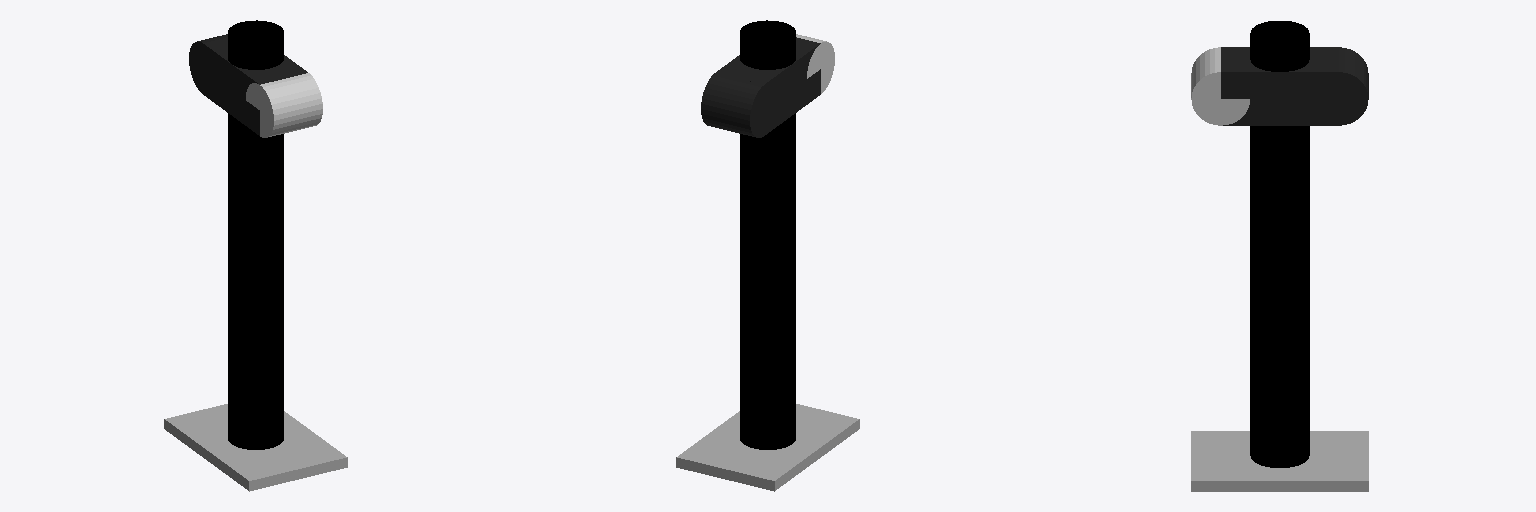
URDF robot description (LISM_Arm):
<?xml version="1.0" ?>
<robot name="LISM_Arm">

    <!-- Basic colors -->
    <material name="black">
        <color rgba="0.0 0.0 0.0 1.0"/>
    </material>
    <material name="greyblack">
        <color rgba="0.1765 0.1765 0.1765 1"/>
    </material>
    <material name="blue">
        <color rgba="0.0 0.0 0.8 1.0"/>
    </material>
    <material name="green">
        <color rgba="0.0 0.8 0.0 1.0"/>
    </material>
    <material name="grey">
        <color rgba="0.3 0.3 0.3 1"/>
    </material>
    <material name="silver">
        <color rgba="0.8 0.8 0.8 1"/>
    </material>
    <material name="red">
        <color rgba="0.8 0.0 0.0 1.0"/>
    </material>
    <material name="white">
        <color rgba="1.0 1.0 1.0 1.0"/>
    </material>

    <material name="anymal_material">
        <color rgba="0.7 0.7 0.7 1.0"/>
    </material>


    <!-- Material for the visual primitives -->
    <material name="anymal_material">
        <color rgba="0.7 0.7 0.7 1.0"/>
    </material>

<!---=============================the base of fixing arm======================-->
    <!--base of fixing arm-->
    <link name="world"/>

    <joint name="worldTolink1" type="fixed">
        <parent link="world"/>
        <child link="base_plate"/>
        <origin xyz="0 0 0"/>
    </joint>

    <link name="base_plate">
        <visual>
            <origin rpy="0.0 0.0 0.0" xyz="0 0 0"/>
            <geometry>
                <box size="0.2 0.3 0.02"/>
            </geometry>
            <material name="anymal_material"/>
        </visual>
        
    </link>

    <joint name="base_fix" type="fixed">
        <axis xyz="1 0 0"/>
        <origin rpy="0 0 0" xyz="0 0 0"/>
        <parent link="base_plate"/>
        <child link="fix_pillar"/>
    </joint>

    <link name="fix_pillar">
        <visual>
            <origin rpy="0.0 0.0 0.0" xyz="0 0 0.4"/>
            <geometry>
                <cylinder length="0.8" radius="0.05"/>
            </geometry>
            <material name="black"/>
        </visual>
    </link>

    <joint name="fix_plate" type="fixed">
        <axis xyz="1 0 0"/>
        <origin rpy="0 0 0" xyz="0 0 0"/>
        <parent link="fix_pillar"/>
        <child link="arm_plate"/>
    </joint>

    <link name="arm_plate">
        <visual>
            <origin rpy="0.0 0.0 0.0" xyz="0 0 0.7"/>
            <geometry>
                <box size="0.1 0.2 0.1"/>
            </geometry>
            <material name="greyblack"/>
        </visual>
    </link>

    <joint name="plate_cir_r" type="fixed">
        <axis xyz="1 0 0"/>
        <origin rpy="0 0 0" xyz="0 0 0"/>
        <parent link="arm_plate"/>
        <child link="cir_plate_r"/>
    </joint>

    <link name="cir_plate_r">
        <visual>
            <origin rpy="0.0 1.57 0.0" xyz="0 0.1 0.7"/>
            <geometry>
                <cylinder length="0.1" radius="0.05"/>
            </geometry>
            <material name="greyblack"/>
        </visual>
    </link>

    <joint name="plate_cir_l" type="fixed">
        <axis xyz="1 0 0"/>
        <origin rpy="0 0 0" xyz="0 0 0"/>
        <parent link="arm_plate"/>
        <child link="cir_plate_l"/>
    </joint>

    <link name="cir_plate_l">
        <visual>
            <origin rpy="0.0 1.57 0.0" xyz="0 -0.1 0.7"/>
            <geometry>
                <cylinder length="0.1" radius="0.05"/>
            </geometry>
            <material name="silver"/>
        </visual>
    </link>

    <joint name="plate_arm_r" type="fixed">
        <axis xyz="1 0 0"/>
        <origin rpy="0 0 0" xyz="0.05 0.1 0.7"/>
        <parent link="cir_plate_r"/>
        <child link="abad_r"/>
        <!-- <limit effort="18" lower="-6.28" upper="6.28" velocity="40"/> -->
        <dynamics damping="0.01" rotor_inertia="0.003708"/>
    </joint>

    <!-- <joint name="plate_arm_l" type="continuous">
        <axis xyz="1 0 0"/>
        <origin rpy="0 0 0" xyz="0 0 0"/>
        <parent link="cir_plate_l"/>
        <child link="abad_l"/>
    </joint> -->

<!---============================= Right Arm ======================-->
    <!--abad link-->
    <link name="abad_r">
        <visual>
            <origin rpy="0 0.0 0.0" xyz="0 0 0"/>
            <geometry>
                <mesh filename="meshes/bp3_dae/BP3_ABAD_L.dae"/>
            </geometry>
            <material name="greyblack"/>
        </visual>
        <inertial>
            <!-- <mass value="0.54"/> -->
            <mass value="0.54"/>
            <origin rpy="0.0 0.0 0.0" xyz="0.075 0 0"/>
            <inertia ixx="0.000391" ixy="0.000000" ixz="0.000000"
                     iyy="0.000739" iyz="0.000000" izz="0.000488"/>
        </inertial> 
        <!-- <collision>
            <origin rpy="0.0 1.57 0.0" xyz="0.0 0.0 0"/>
            <geometry>
                <cylinder length="0.14" radius="0.06"/>
            </geometry>
        </collision> -->
    </link>

    <!--abad to upper joint-->
    <joint name="abad_upper_r" type="revolute">
        <axis xyz="0 1 0"/>
        <origin rpy="0 0 0" xyz="0.09 0.08 0.0"/>
        <parent link="abad_r"/>
        <child link="upper_r"/>
        <!-- <limit effort="18" lower="-6.28" upper="6.28" velocity="40"/> -->
        <!-- <dynamics damping="0.01" rotor_inertia="0.003708"/> -->
    </joint>

    <!--upper link-->
    <link name="upper_r">
        <visual>
            <origin rpy="0 0.0 0" xyz="0.0 0.0 0"/>
            <geometry>
                <mesh filename="meshes/bp3_dae/BP3_UPPER_L.dae"/>
                <!-- <mesh filename="../meshes/human_dae/lower.dae"/> -->
            </geometry>
            <material name="greyblack"/>
        </visual>
        <inertial>
            <!-- <mass value="0.036"/> -->
            <mass value="0.636"/>
            <origin rpy="0.0 0.0 0.0" xyz="0.0 0.0 0"/>
            <inertia ixx="0.001724" ixy="0.0" ixz="0.0"
                     iyy="0.001907" iyz="0.000228" izz="0.000468"/>
        </inertial>
         <!-- <collision>
            <origin rpy="1.57 0.0 0.0" xyz="0.0 0.0 0"/>
            <geometry>
                <cylinder length="0.035" radius="0.05"/>
            </geometry>
        </collision>
        <collision>
            <origin rpy="0.0 0.0 0.0" xyz="0.0 0.0 -0.12"/>
            <geometry>
                <box size="0.05 0.04 0.15"/>
            </geometry>
        </collision> -->
    </link>

    <!--upper to lower joint-->
    <joint name="upper_lower_r" type="revolute">
        <axis xyz="0 1 0"/>
        <origin rpy="0 0 0" xyz="0.0 0.0 -0.2"/>
        <parent link="upper_r"/>
        <child link="lower_r"/>
        <!-- <dynamics damping="0.01" rotor_inertia="0.008966"/>
         -->
    </joint>

    <!--lower link-->
    <link name="lower_r">
        <visual>
            <!-- <origin rpy="0.0 0.0 3.14" xyz="-0.025 0.032 0"/> -->
            <origin rpy="0.0 0.0 0" xyz="0 0 0"/>
            <geometry>
                <mesh filename="meshes/bp3_dae/BP3_LOWER.dae"/>
            </geometry>
            <material name="greyblack"/>
        </visual>
        <inertial>
            <mass value="0.064"/>
            <origin rpy="0.0 0.0 0.0" xyz="0 0.032 0"/>
            <inertia ixx="0.000716" ixy="0" ixz="0.0" iyy="0.000721" iyz="0" izz="0.000012"/>
        </inertial>
        <!-- <collision>
            <origin rpy="0.0 0.0 0.0" xyz="0 0.0 -0.1"/>
            <geometry>
                <box size="0.04 0.03 0.18"/>
            </geometry>
        </collision> -->
    </link>

    <joint name="toe_fr_joint" type="fixed">
        <parent link="lower_r"/>
        <child link="toe_fr"/>
        <origin xyz="0.0 0.0 -0.2"/>
        <dynamics damping="0.0" friction="0.0"/>
    </joint>

    <link name="toe_fr">
        <contact>
            <friction_anchor/>
            <stiffness value="30000.0"/>
            <damping value="1000.0"/>
            <spinning_friction value="0.3"/>
            <lateral_friction value="3.0"/>
        </contact>
        <collision>
            <origin rpy="0 0 0" xyz="0 0 0"/>
            <geometry>
                <sphere radius="0.0275"/>
            </geometry>
            <material name="">
                <contact name="rubber"/>
            </material>
        </collision>
        <inertial>
            <mass value="0.05"/>
            <inertia ixx="0.000025" ixy="0" ixz="0" iyy="0.000025" iyz="0" izz="0.000025"/>
        </inertial>
    </link>

    <!-- <joint name="base_ball" type="prismatic">
        <axis xyz="0 0 1"/>
        <origin rpy="0 0 0" xyz="0.34, 0.18, 0.35"/>
        <parent link="base_plate"/>
        <child link="ball"/>
    </joint>

    <link name="ball">
        <visual>
            <origin rpy="0.0 0.0 0" xyz="0 0 0"/>
            <geometry>
                <sphere radius="0.1"/>
            </geometry>
            <material name="greyblack"/>
        </visual>
        <inertial>
            <mass value="0.4"/>
            <origin rpy="0.0 0.0 0.0" xyz="0 0 0"/>
            <inertia ixx="0.00267" ixy="0" ixz="0.0" iyy="0.00267" iyz="0" izz="0.00267"/>
        </inertial>
        <collision>
            <origin rpy="0.0 0.0 0.0" xyz="0 0.0 0"/>
            <geometry>
                <sphere radius="0.1"/>
            </geometry>
            <material name="">
                <contact name="rub"/>
            </material>
        </collision>
    </link> -->

    <!-- <joint name="base_bound" type="fixed">
        <axis xyz="0 0 0"/>
        <origin rpy="0 0 0" xyz="0.335, 0.18, 0"/>
        <parent link="base_plate"/>
        <child link="bound"/>
    </joint> -->

    <!--lower link-->
    <!-- <link name="bound">
        <visual>
            <origin rpy="0.0 0.0 0" xyz="0 0 0"/>
            <geometry>
                <box size="0.2 0.3 0.02"/> 
            </geometry>
            <material name="greyblack"/>
        </visual>
        <inertial>
            <mass value="0.4"/>
            <origin rpy="0.0 0.0 0.0" xyz="0 0 0"/>
            <inertia ixx="0.00267" ixy="0" ixz="0.0" iyy="0.00267" iyz="0" izz="0.00267"/>
        </inertial>
        <collision>
            <origin rpy="0.0 0.0 0.0" xyz="0 0 -0.01"/>
            <geometry>
                <box size="0.2 0.3 0.02"/> 
            </geometry>
        </collision>
    </link> -->

    <!-- <joint name="lower_hand_r" type="revolute">
        <axis xyz="0 1 0"/>
        <origin rpy="0 0 0" xyz="-0.025 0.0 -0.2"/>
        <parent link="lower_r"/>
        <child link="hand_r"/>
        <limit effort="200" lower="-3.14" upper="3.14" velocity="20"/>
        <dynamics damping="0.01" friction="0.2"/>
    </joint>

    <link name="hand_r">
        <visual>
            <origin rpy="0.0 0.0 3.14" xyz="0.0 0.032 -0.06"/>
            <geometry>
                <box size="0.005 0.08 0.1"/>
            </geometry>
            <material name="greyblack"/>
        </visual>
        <material name="gblack"/>
        <inertial>
            <mass value="0.1"/>
            <origin rpy="0.0 0.0 0.0" xyz="0.0 0.032 0"/>
            <inertia ixx="0.0" ixy="0.0" ixz="0.0" iyy="0.0" iyz="0.0" izz="0.0"/>
        </inertial>
        <collision>
            <origin rpy="0.0 0.0 0.0" xyz="0.0 0.032 -0.06"/>
            <geometry>
                <box size="0.005 0.08 0.1"/>
            </geometry>
        </collision>
    </link> -->

<!---============================= Left Arm ======================-->
    <!-- <link name="abad_l">
        <visual>
            <origin rpy="3.14 0.0 0.0" xyz="0.05 -0.1 0.9"/>
            <geometry>
                <mesh filename="../meshes/dae/bp3_dae/BP3_ABAD_L.dae"/>
            </geometry>
            <material name="greyblack"/>
        </visual>
        <inertial>
            <mass value="0.45"/>
            <origin rpy="0.0 0.0 0.0" xyz="0.0 0.0 0.0"/>
            <inertia ixx="0.0" ixy="0.0" ixz="0.0" iyy="0.0" iyz="0.0" izz="0.0"/>
        </inertial> 
        <collision>
            <origin rpy="0.0 0.0 0.0" xyz="0.0 0.0 0.0"/>
            <geometry>
                <cylinder length="0.0215" radius="0.048"/>
            </geometry>
        </collision>
    </link>

    <joint name="abad_upper_l" type="continuous">
        <axis xyz="1 0 0"/>
        <origin rpy="0 0 0" xyz="0.05 -0.1 0.9"/>
        <parent link="abad_l"/>
        <child link="upper_l"/>
        <limit effort="200" lower="-3.14" upper="3.14" velocity="20"/>
        <dynamics damping="0.01" friction="0.2"/>
    </joint>

    <link name="upper_l">
        <visual>
            <origin rpy="0 0.0 0" xyz="0.09 -0.08 0"/>
            <geometry>
                <mesh filename="../meshes/dae/bp3_dae/BP3_UPPER_R.dae"/>
            </geometry>
            <material name="greyblack"/>
        </visual>
        <inertial>
            <mass value="0.5"/>
            <origin rpy="0.0 0.0 0.0" xyz="0.0 0.0 0.0"/>
            <inertia ixx="0.0" ixy="0.0" ixz="0.0" iyy="0.0" iyz="0.0" izz="0.0"/>
        </inertial>
        <collision>
            <origin rpy="0.0 0.0 0.0" xyz="0.0 0.0 0.0"/>
            <geometry>
                <cylinder length="0.023" radius="0.048"/>
            </geometry>
        </collision>
    </link>

    <joint name="upper_lower_l" type="continuous">
        <axis xyz="0 1 0"/>
        <origin rpy="0 0 0" xyz="0.05 -0.05 -0.22"/>
        <parent link="upper_l"/>
        <child link="lower_l"/>
        <limit effort="200" lower="-3.14" upper="3.14" velocity="20"/>
        <dynamics damping="0.01" friction="0.2"/>
    </joint>

    <link name="lower_l">
        <visual>
            <origin rpy="0.0 0.0 3.14" xyz="0.02 -0.032 0"/>
            <geometry>
                <mesh filename="../meshes/dae/bp3_dae/BP3_LOWER.dae"/>
            </geometry>
            <material name="greyblack"/>
        </visual>
        <inertial>
            <mass value="0.5"/>
            <origin rpy="0.0 0.0 0.0" xyz="0.0 0.0 0.0"/>
            <inertia ixx="0.0" ixy="0.0" ixz="0.0" iyy="0.0" iyz="0.0" izz="0.0"/>
        </inertial>
        <collision>
            <origin rpy="0.0 0.0 0.0" xyz="0.0 0.0 0.0"/>
            <geometry>
                <cylinder length="0.0245" radius="0.048"/>
            </geometry>
        </collision>
    </link> -->

</robot>

--- What the picture shows (computed from the rendered views, not written in the file) ---
3 views of the same robot in one strip: view 1: azimuth 30°, elevation 25°; view 2: azimuth 150°, elevation 25°; view 3: azimuth 270°, elevation 25° (orthographic).
Model LISM_Arm with 10 links and 9 joints (2 revolute, 7 fixed), rooted at world, posed all joints at 0.
Links seen in each view (by area): view 1: fix_pillar, base_plate, cir_plate_l, arm_plate, cir_plate_r; view 2: fix_pillar, base_plate, cir_plate_r, arm_plate, cir_plate_l; view 3: fix_pillar, base_plate, arm_plate, cir_plate_r, cir_plate_l.
Boxes of the visible links, x1,y1,x2,y2 form: fix_pillar: (228,20,283,449); base_plate: (164,404,347,491); cir_plate_l: (246,73,322,137); arm_plate: (203,37,307,135); cir_plate_r: (189,34,227,93); fix_pillar: (740,20,795,449); base_plate: (676,404,859,491); cir_plate_r: (701,73,777,137); arm_plate: (716,37,820,135); cir_plate_l: (796,34,834,93); fix_pillar: (1250,21,1309,467); base_plate: (1191,431,1368,491); arm_plate: (1221,47,1338,125); cir_plate_r: (1310,47,1368,125); cir_plate_l: (1191,47,1249,125).
Bounding box of the posed robot: 0.2 × 0.3 × 0.81 m (x, y, z).
Meshes: 3 distinct files referenced, 0 mesh visuals loaded (none loaded); not drawn: 3 (reference not matched to a file when rendering).
